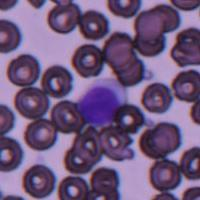L: (77, 78, 127, 127)
